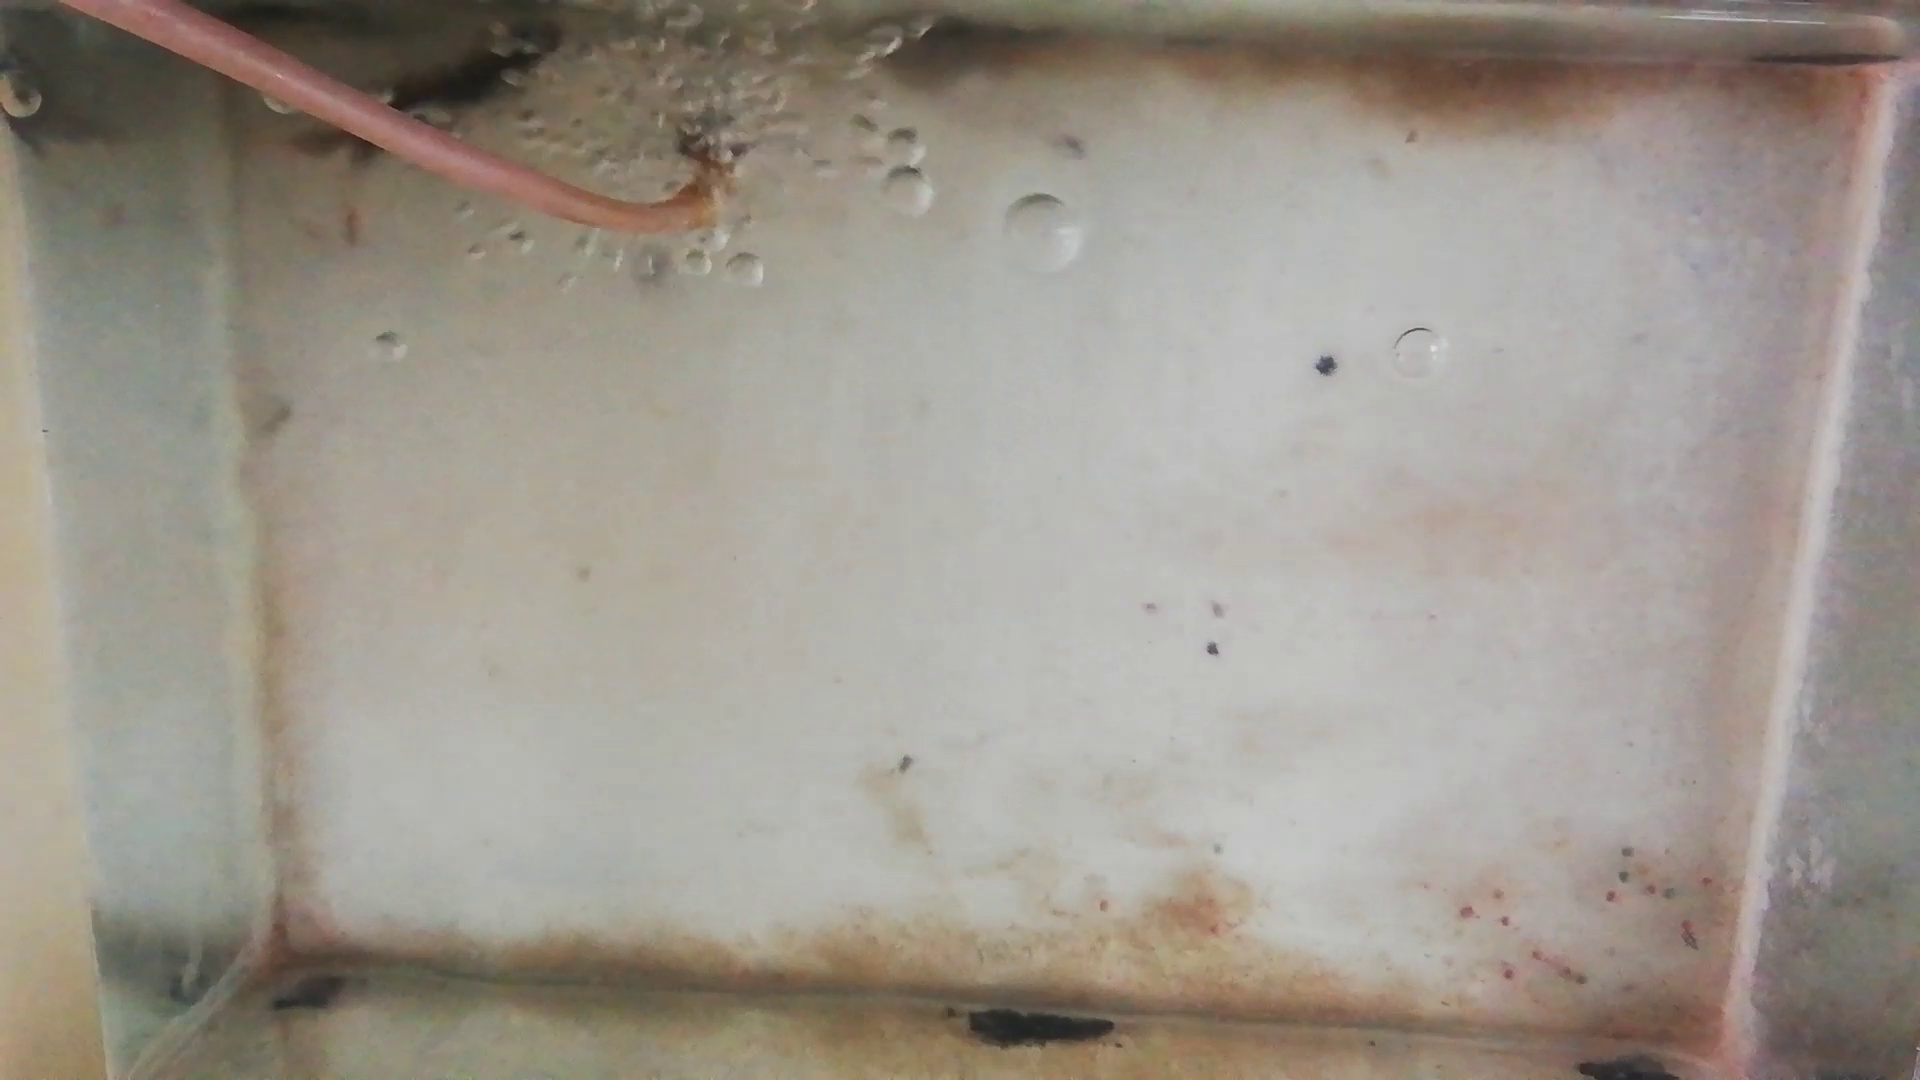fish: (381, 33, 556, 107)
